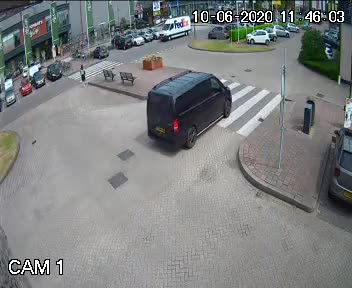car: (139, 69, 239, 145), (155, 16, 191, 39)
